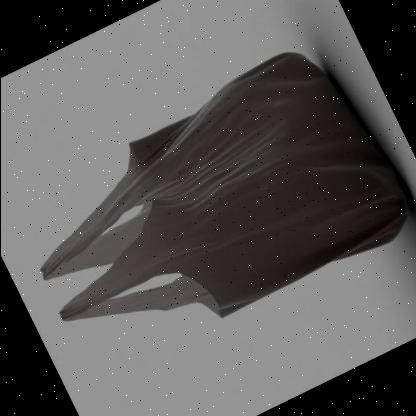Others: (40, 52, 406, 320)
